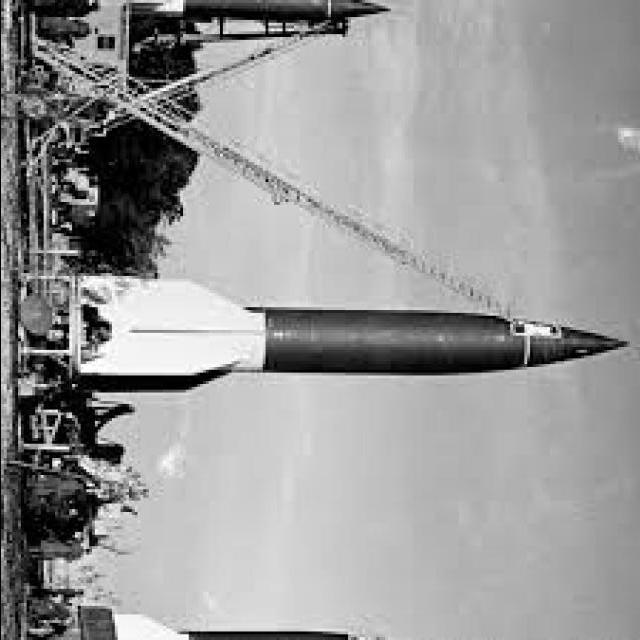Missile: (80, 270, 638, 406), (252, 300, 640, 378)
